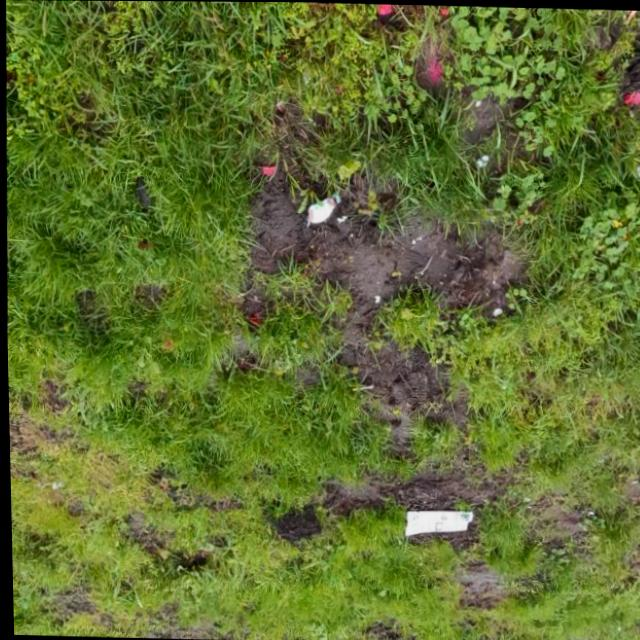Plastic: (302, 189, 341, 229)
